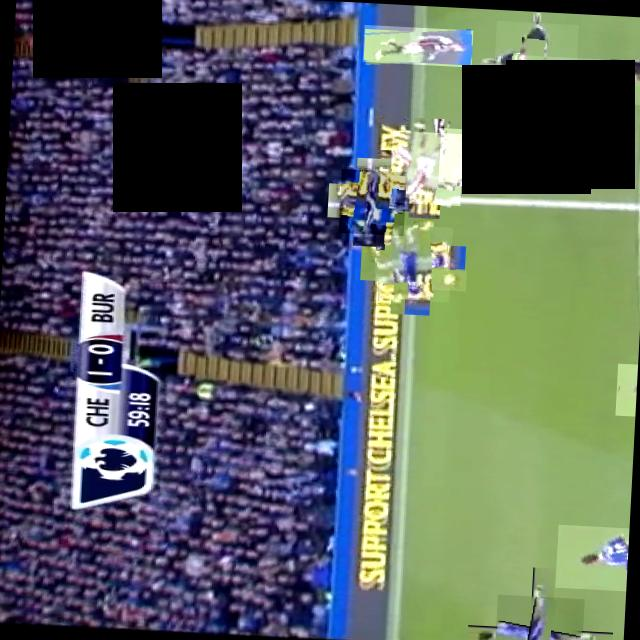ball: (431, 268, 467, 290)
referee: (492, 20, 578, 107)
soccer-player: (438, 127, 568, 188), (509, 54, 640, 105), (373, 223, 453, 302), (389, 130, 464, 206), (556, 524, 630, 590), (362, 24, 473, 67), (339, 168, 407, 235), (495, 594, 585, 640), (616, 362, 638, 416)
